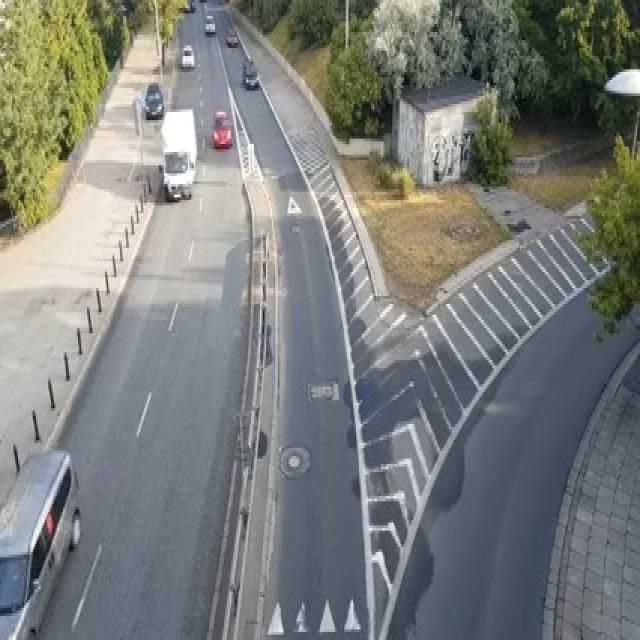car: (0, 448, 81, 637), (212, 109, 231, 147), (144, 83, 164, 117), (242, 56, 258, 88), (180, 42, 194, 66), (204, 13, 215, 35), (225, 27, 238, 45), (183, 0, 196, 11)
truck: (159, 107, 197, 200)
